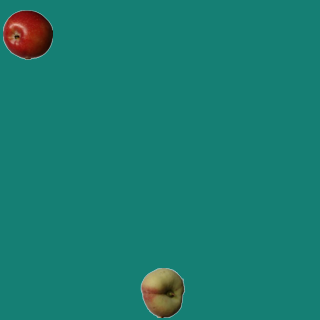Apple Braeburn: (2, 9, 52, 59)
Peach Flat: (137, 267, 187, 317)
